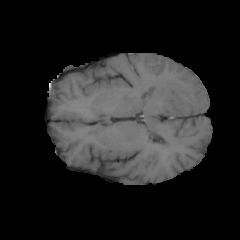glioma: (142, 78, 182, 105)
